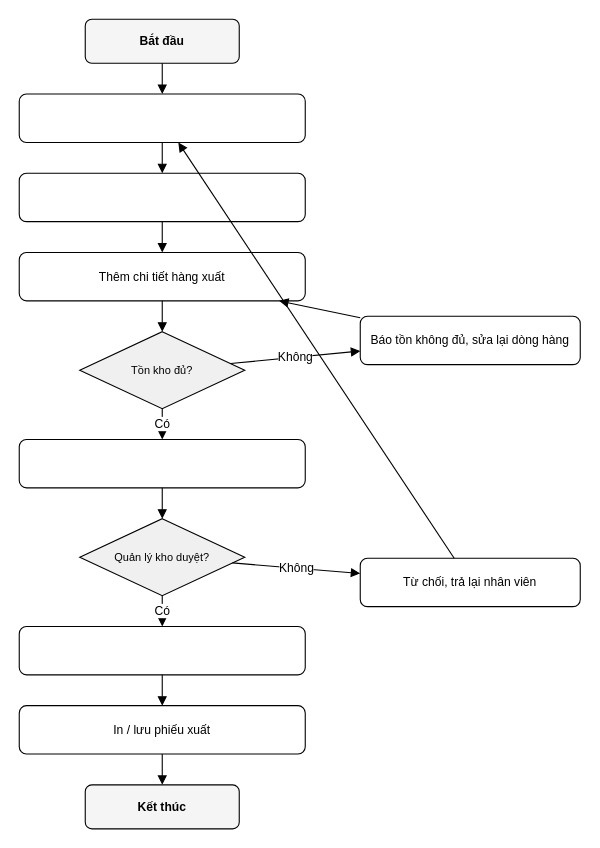
Image size: 600x848. Some labels were removed from this diagram. Here are the shapes that lost their labels. From the top down, the centre of each, then its label:
At (161,117): "Nhân viên kho lập phiếu xuất".
At (161,197): "Nhập kho xuất, ngày, lý do / ghi chú".
At (161,463): "Gửi phiếu xuất để duyệt".
At (161,650): "Cập nhật tồn kho (giảm)".
